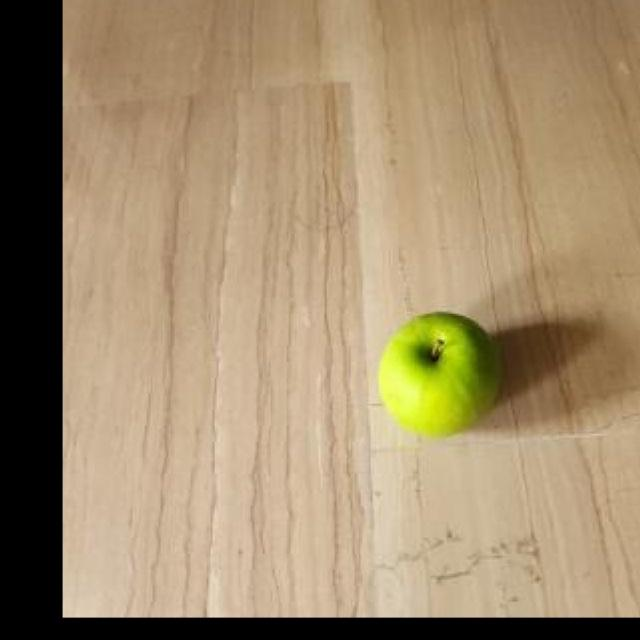green apple: (372, 304, 506, 444)
